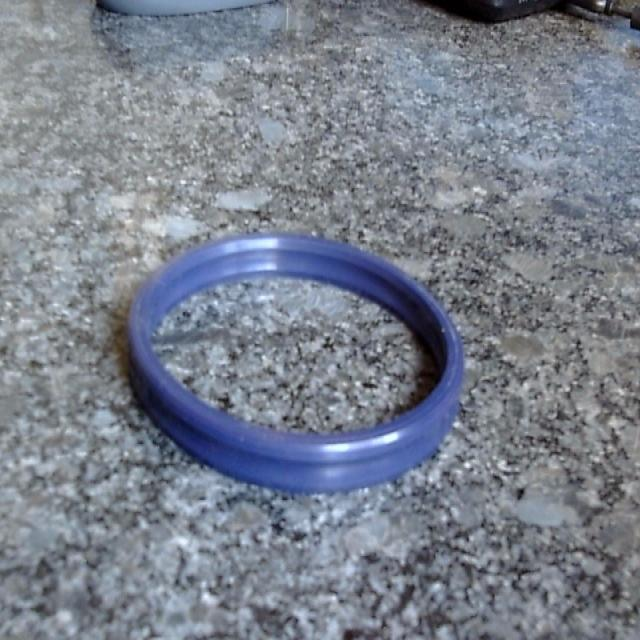purple-ring: (129, 235, 464, 492)
